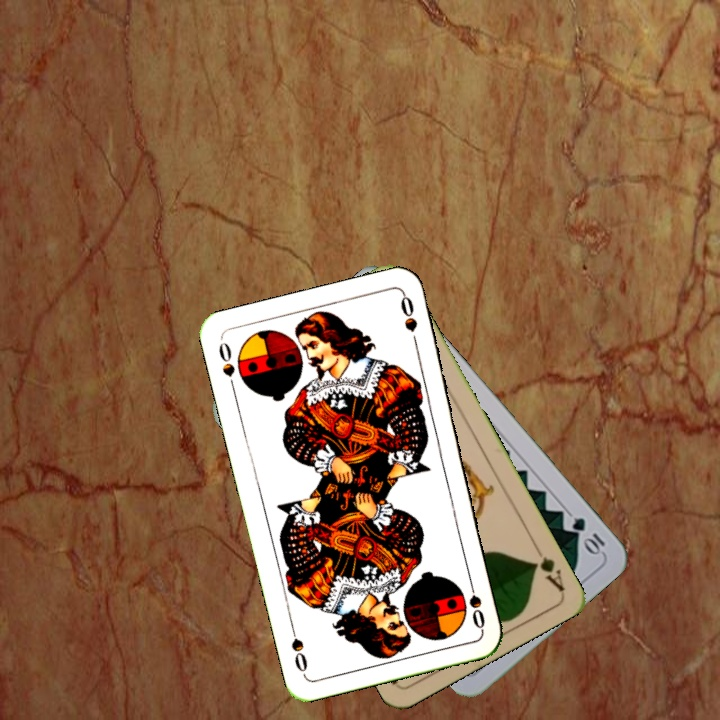G10: (568, 513, 608, 559)
GA: (528, 540, 568, 594)
SO: (464, 573, 488, 632), (214, 337, 238, 394)
